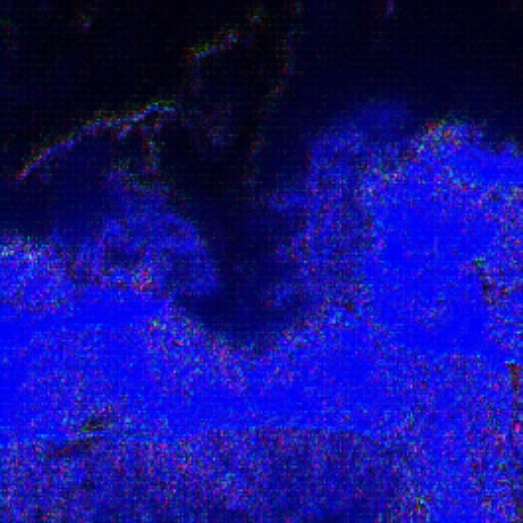rip_current: (118, 81, 372, 376)
